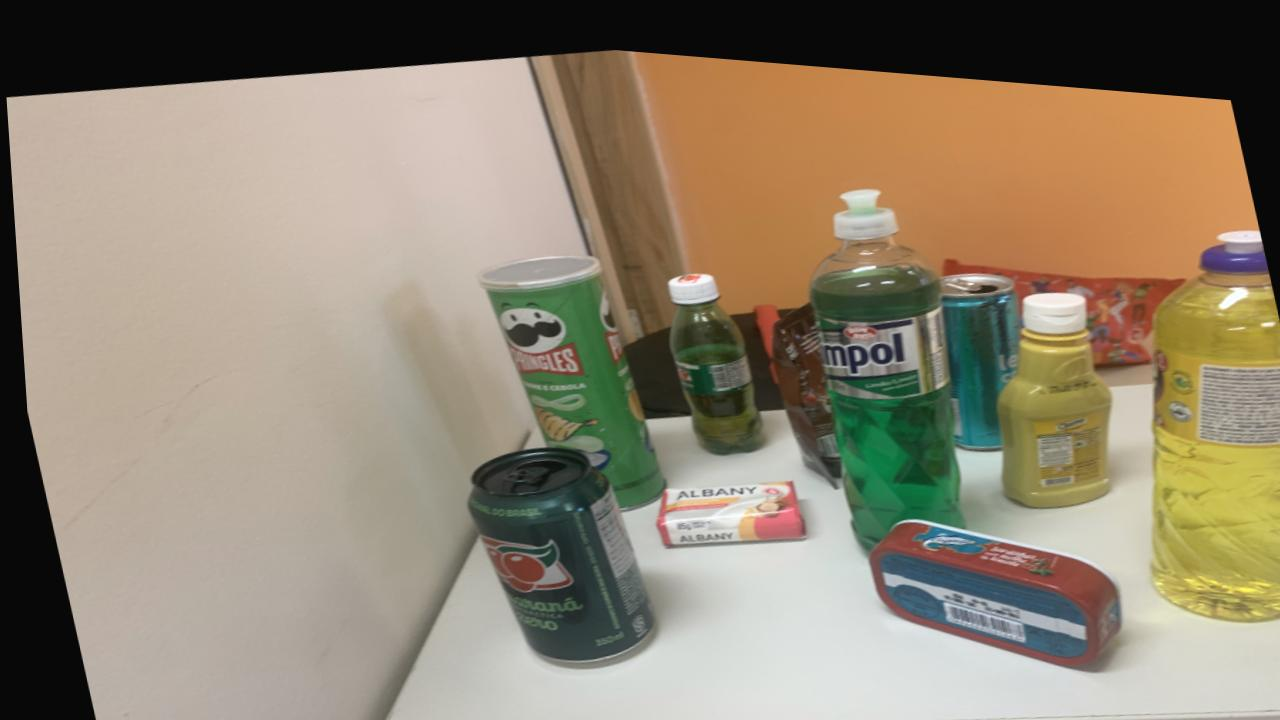Coffee-Pantry_Items: (766, 290, 837, 474)
Detergent-Cleanup_Items: (806, 173, 959, 536), (1144, 209, 1280, 600)
Guarana-Drinks: (664, 261, 757, 442)
Guarana_Can-Drinks: (461, 438, 648, 656)
Mustard-Pantry_Items: (992, 273, 1107, 490)
Pringles-Snacks: (476, 245, 659, 498)
Soap-Cleanup_Items: (649, 467, 799, 534)
Tea-Drinks: (937, 256, 1017, 433)
Tuna_Can-Pantry_Items: (862, 503, 1115, 649)
